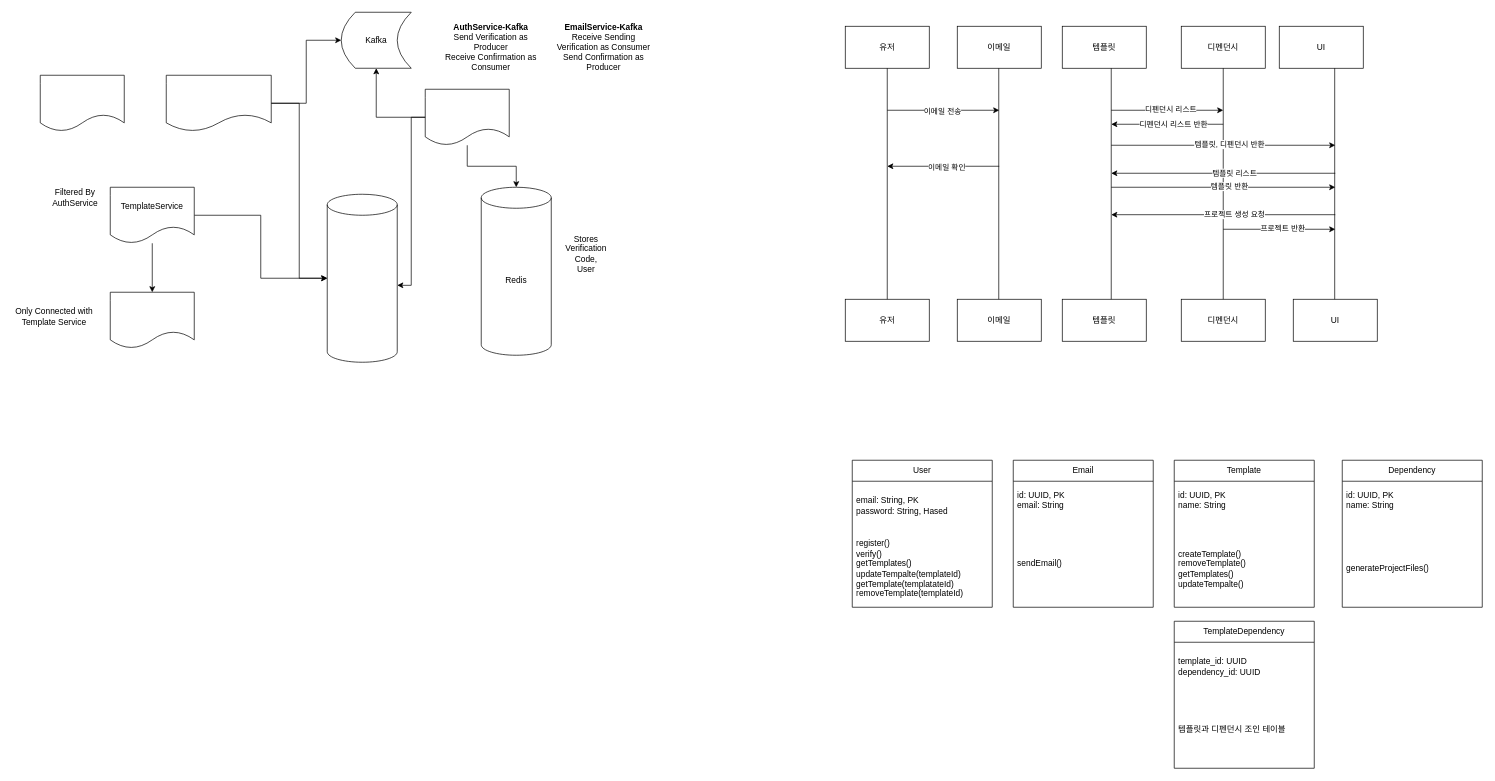
Image size: 1495x781. Some labels were removed from this diagram. Here are the shapes that lost their labels. From the top down, the centre of each, then its label:
the point at 82,103: Frontend Service
the point at 218,103: AuthService
the point at 467,117: EmailService
the point at 362,278: MySQL
the point at 152,320: GeneratorService
